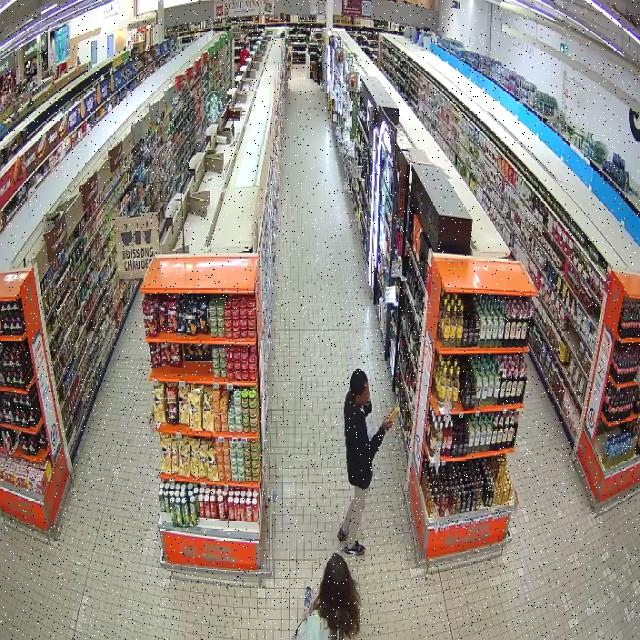article: (384, 404, 400, 422)
hands: (381, 420, 394, 431)
person: (337, 369, 392, 556), (294, 553, 358, 639)
